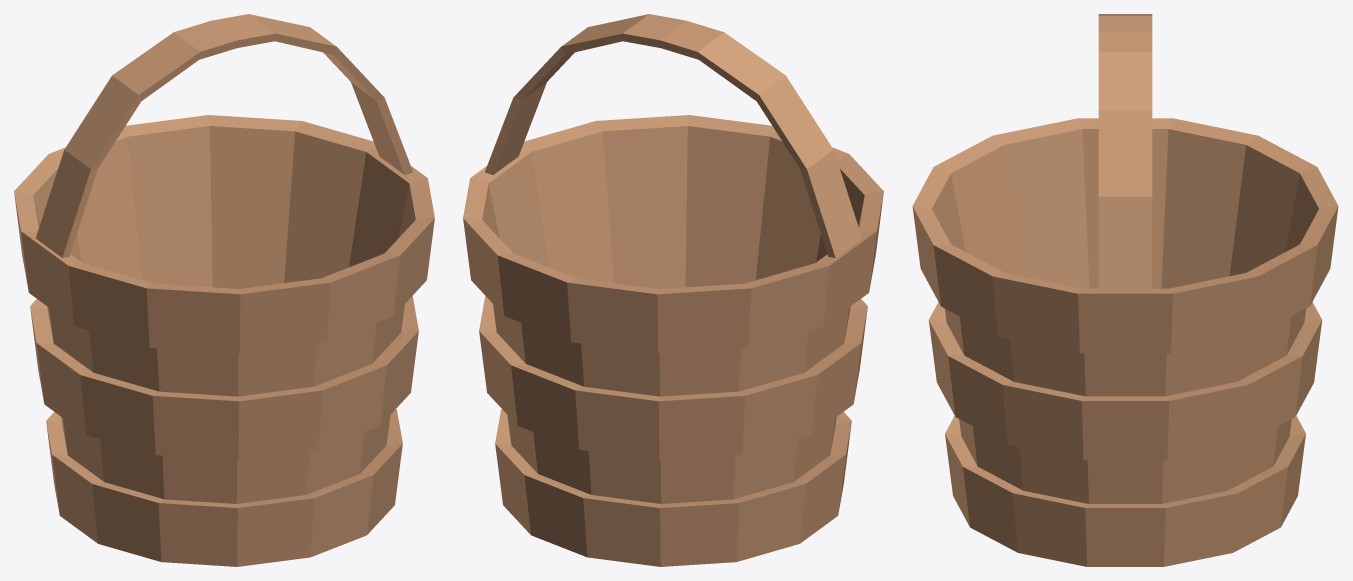
File: Basket.fbx
3 views of the same model, side by side, from view 1: azimuth 30°, elevation 25°; view 2: azimuth 150°, elevation 25°; view 3: azimuth 270°, elevation 25° (orthographic).
Visible parts, largest first — view 1: Basket; view 2: Basket; view 3: Basket.
Part boxes in pixels (x1,y1,x2,y2): Basket: (14, 14, 434, 566); Basket: (463, 14, 883, 566); Basket: (912, 14, 1338, 566).
Bounding box in the file's own units: 265 × 327 × 272.
